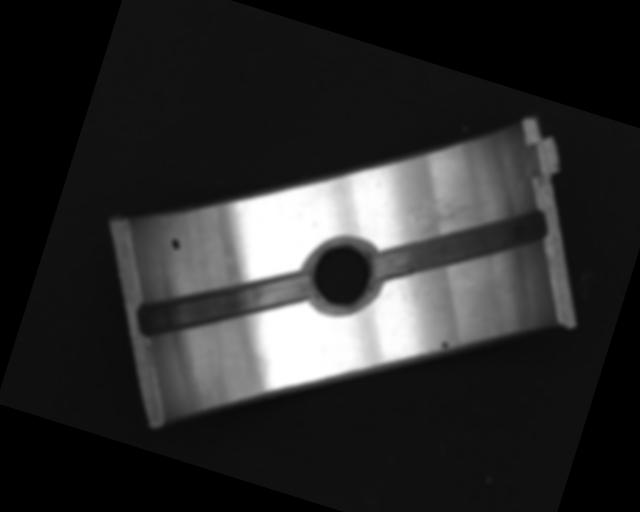blot: (167, 236, 182, 252), (439, 339, 452, 351)
gap: (369, 168, 552, 325), (137, 231, 313, 377)
hole: (297, 229, 386, 323)
scratch: (405, 178, 494, 261)
